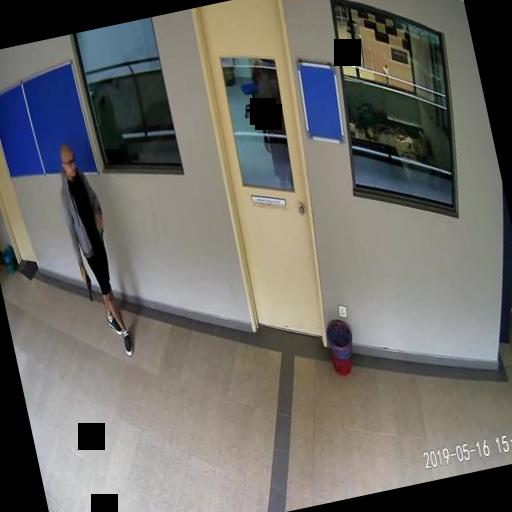Handgun: (80, 270, 94, 300)
